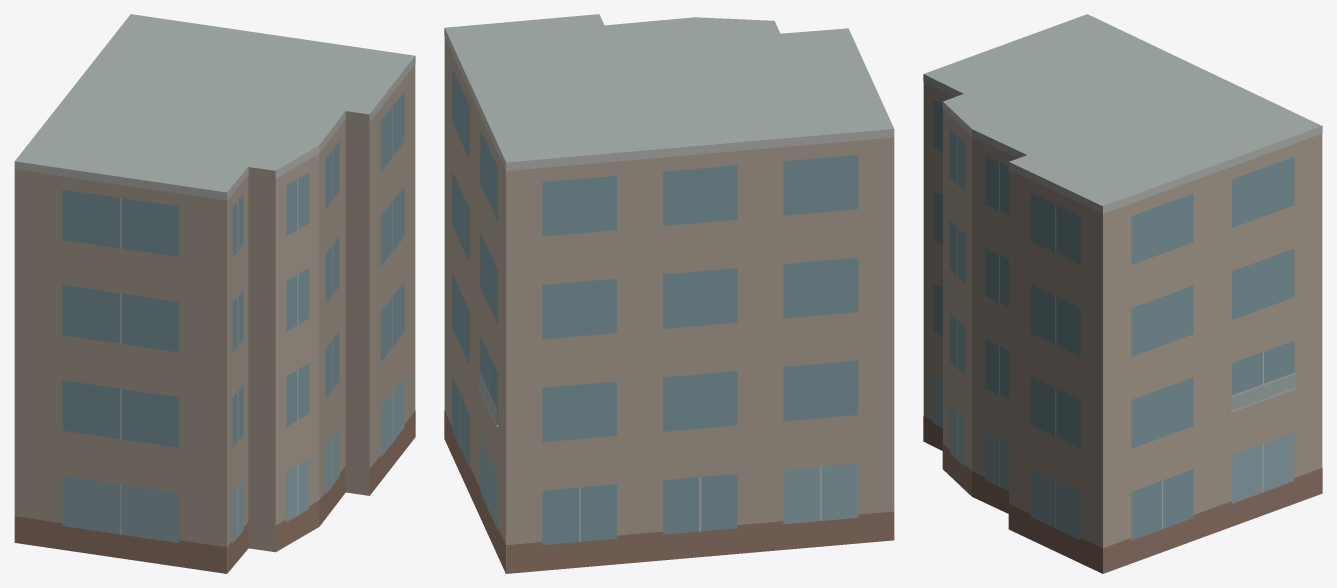
The model's file is survey-upis-32980741.glb.
The picture shows the model from 3 angles, left to right: view 1: azimuth 30°, elevation 25°; view 2: azimuth 150°, elevation 25°; view 3: azimuth 270°, elevation 25°; orthographic projection. The views are drawn at different scales.
Visible parts, largest first — view 1: survey-upis-32980741.tmp; view 2: survey-upis-32980741.tmp; view 3: survey-upis-32980741.tmp.
Part boxes in pixels (box(x1,y1,x2,y2)): survey-upis-32980741.tmp: box(14, 14, 415, 573); survey-upis-32980741.tmp: box(444, 14, 894, 573); survey-upis-32980741.tmp: box(923, 14, 1322, 573).
Bounding box in the file's own units: 13.13 × 11.7 × 11.51.
